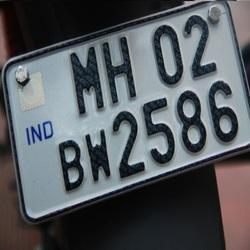number_plate: (3, 22, 250, 189)
